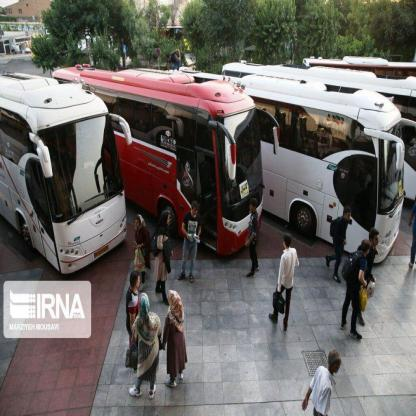Bus: (67, 43, 272, 263), (235, 72, 411, 265), (0, 64, 135, 280)
